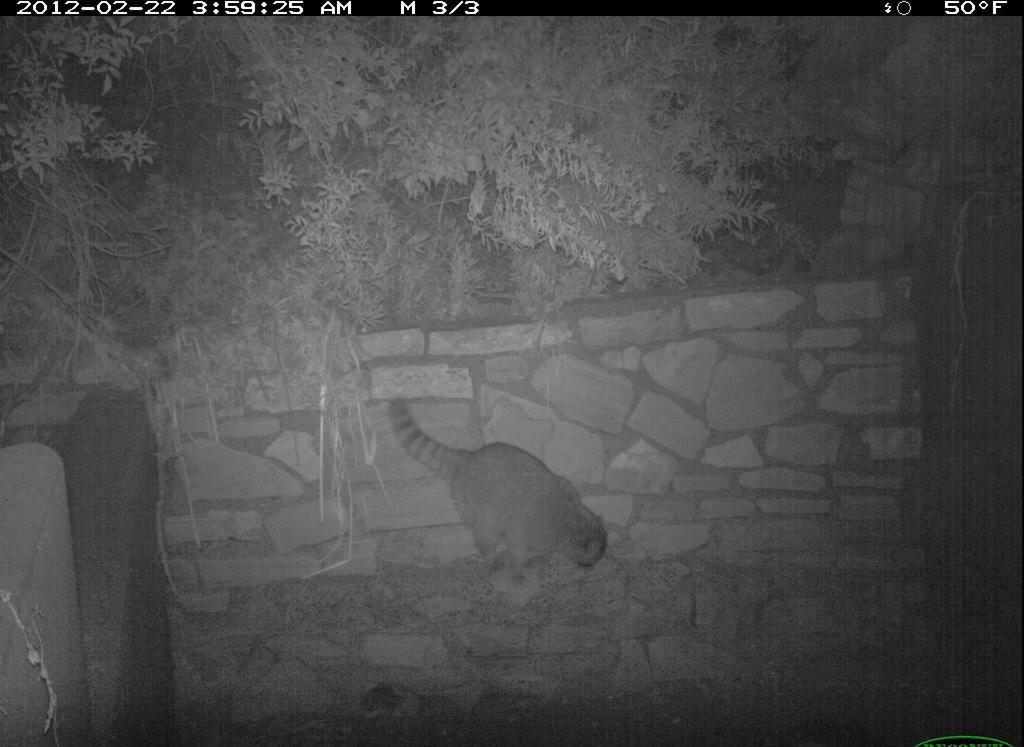raccoon: (382, 392, 617, 594)
